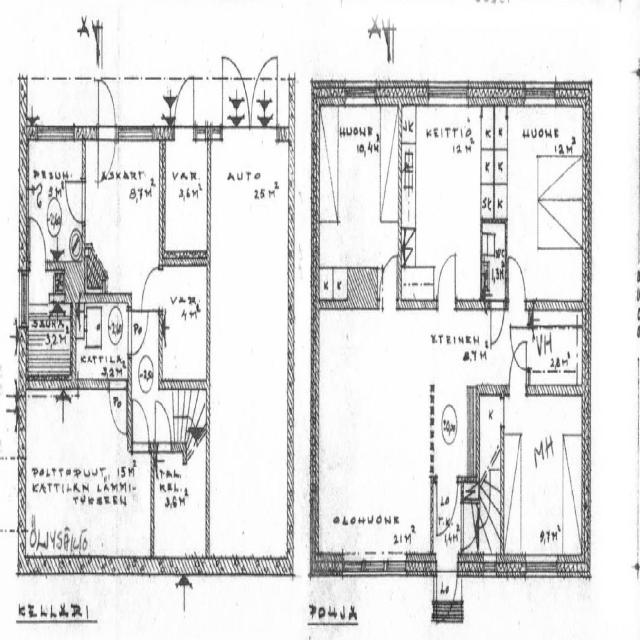door: (96, 74, 118, 185), (221, 54, 250, 131), (28, 189, 58, 263), (132, 278, 158, 358), (172, 72, 196, 140), (434, 246, 458, 312), (435, 474, 460, 533), (434, 563, 458, 618), (507, 250, 528, 309), (108, 380, 129, 436), (130, 395, 150, 453), (153, 394, 173, 452), (380, 253, 400, 311), (140, 262, 161, 314), (64, 174, 85, 226), (28, 212, 47, 266), (128, 306, 148, 356), (510, 329, 530, 376), (488, 299, 506, 349), (467, 108, 481, 148)
window: (342, 550, 408, 573), (427, 79, 469, 108), (524, 553, 558, 584), (524, 78, 556, 110), (37, 121, 76, 145), (345, 80, 376, 110), (118, 122, 156, 146), (15, 268, 27, 335), (481, 553, 499, 578)
zone: (210, 129, 290, 564), (318, 301, 432, 568), (20, 384, 150, 571), (491, 102, 586, 304), (401, 101, 490, 300), (318, 96, 401, 296), (504, 391, 584, 566), (84, 136, 162, 296), (26, 134, 84, 261), (152, 439, 208, 565), (162, 130, 210, 262), (159, 262, 209, 388), (24, 264, 74, 388), (526, 304, 586, 395), (74, 294, 129, 385), (476, 390, 505, 483), (292, 464, 314, 573), (481, 218, 508, 304)
